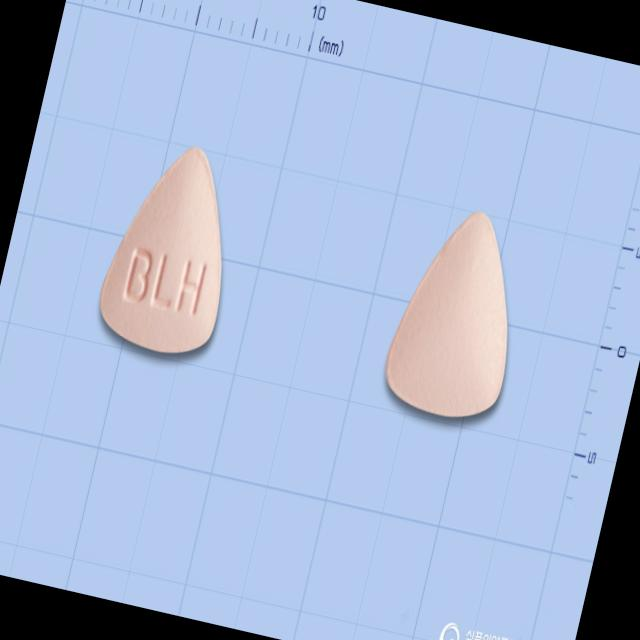Baracle: (85, 128, 260, 373)
